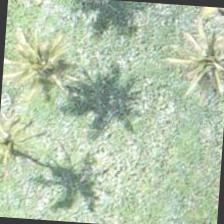Kelapa_Sawit: (0, 15, 92, 110), (165, 39, 223, 134), (0, 97, 52, 191)
